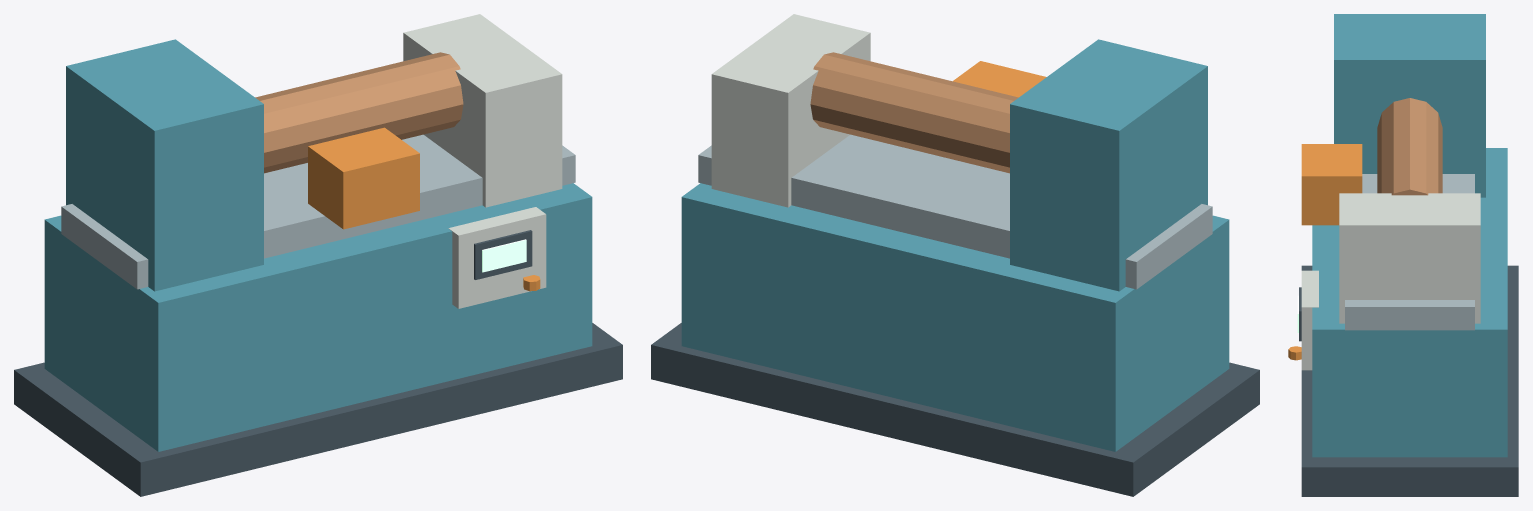
Rendered from industrial-metal-lathe.glb.
3 views of the same model, side by side, from view 1: azimuth 30°, elevation 25°; view 2: azimuth 150°, elevation 25°; view 3: azimuth 270°, elevation 25° (orthographic). The views are drawn at different scales.
Parts seen in each view (by area): view 1: blue, dark, cream, copper, steel, orange, light; view 2: blue, dark, steel, cream, copper, orange; view 3: blue, cream, dark, copper, steel, orange.
Boxes of the visible parts, x1,y1,x2,y2 form: blue: (44, 39, 592, 451); dark: (14, 230, 622, 496); cream: (403, 14, 562, 308); copper: (255, 52, 463, 173); steel: (61, 134, 575, 289); orange: (308, 127, 540, 291); light: (482, 239, 526, 272); blue: (681, 39, 1229, 451); dark: (651, 323, 1259, 496); steel: (698, 134, 1212, 289); cream: (711, 14, 870, 207); copper: (810, 52, 1018, 173); orange: (953, 61, 1046, 97); blue: (1312, 14, 1507, 457); cream: (1301, 193, 1480, 370); dark: (1299, 265, 1518, 496); copper: (1377, 98, 1442, 195); steel: (1345, 174, 1474, 330); orange: (1288, 144, 1362, 360).
Bounding box in the file's own units: 2.2 × 1.5 × 1.06.
